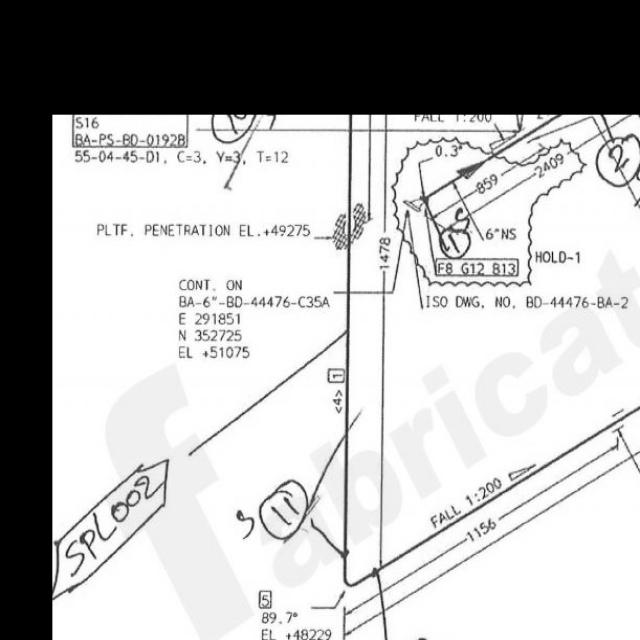Item number: (71, 116, 191, 149), (430, 256, 522, 280), (327, 365, 344, 386), (258, 587, 273, 610)
Measrement: (359, 447, 638, 627), (445, 124, 607, 219)
Symbol: (339, 541, 377, 595), (609, 405, 629, 438)
Weld number: (257, 472, 312, 545), (593, 132, 639, 191), (209, 115, 257, 148)
other: (175, 275, 331, 362), (420, 290, 637, 316), (93, 218, 316, 243), (258, 607, 338, 639)
